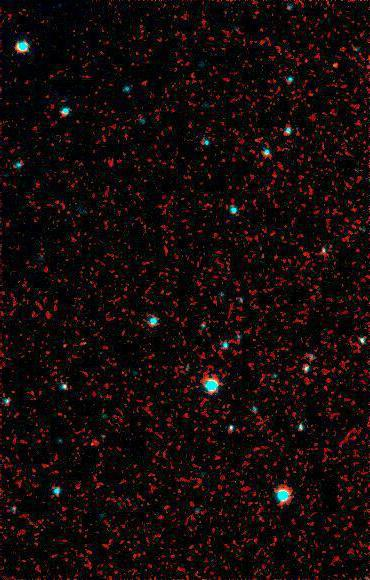star: (322, 50, 352, 80)
